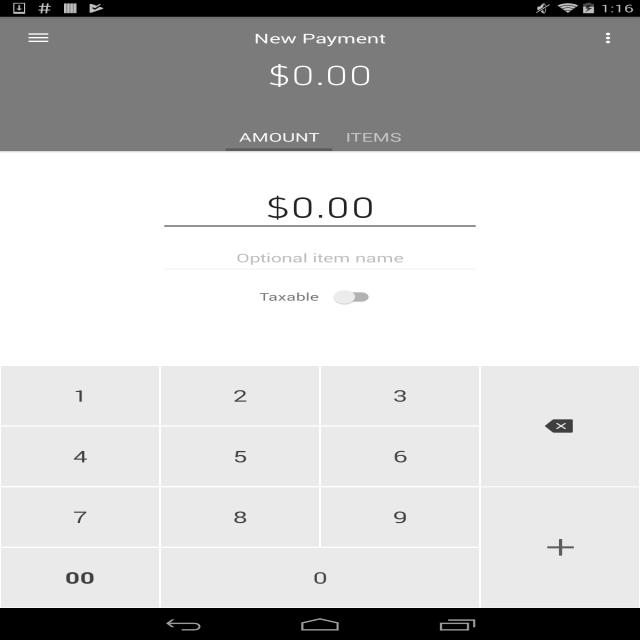EditText: (160, 188, 480, 231), (160, 241, 480, 275)
ImageButton: (9, 17, 68, 59)
ImageView: (589, 22, 631, 54)
Switch: (330, 288, 380, 306)
TextView: (267, 59, 373, 91), (254, 29, 387, 47), (238, 129, 320, 145), (259, 289, 320, 304), (345, 129, 402, 145)
